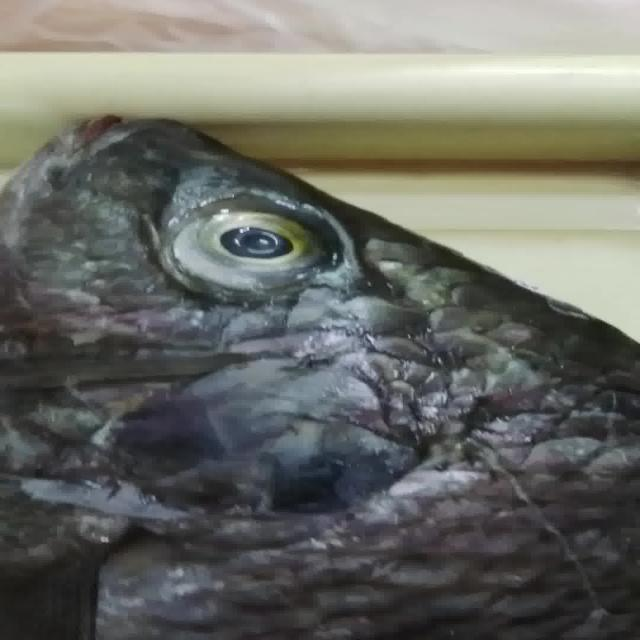Non-Fresh: (166, 178, 340, 301)
